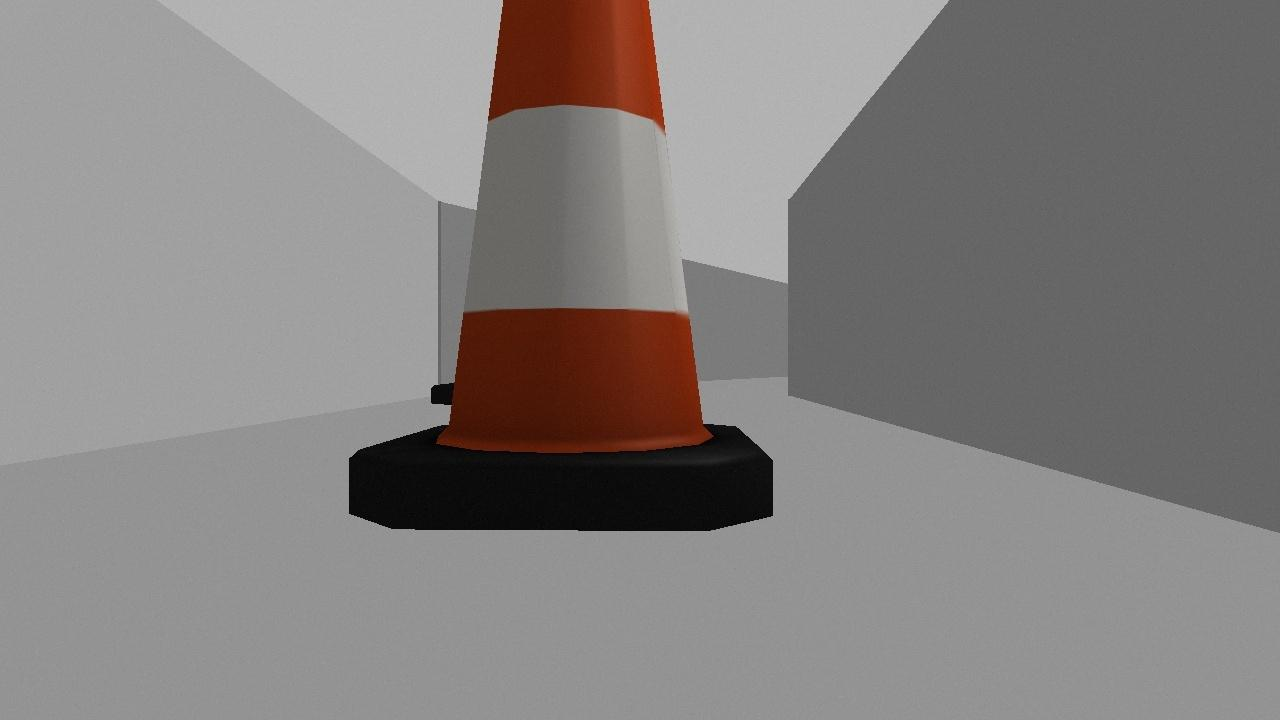cone_barrel: (317, 0, 832, 557)
